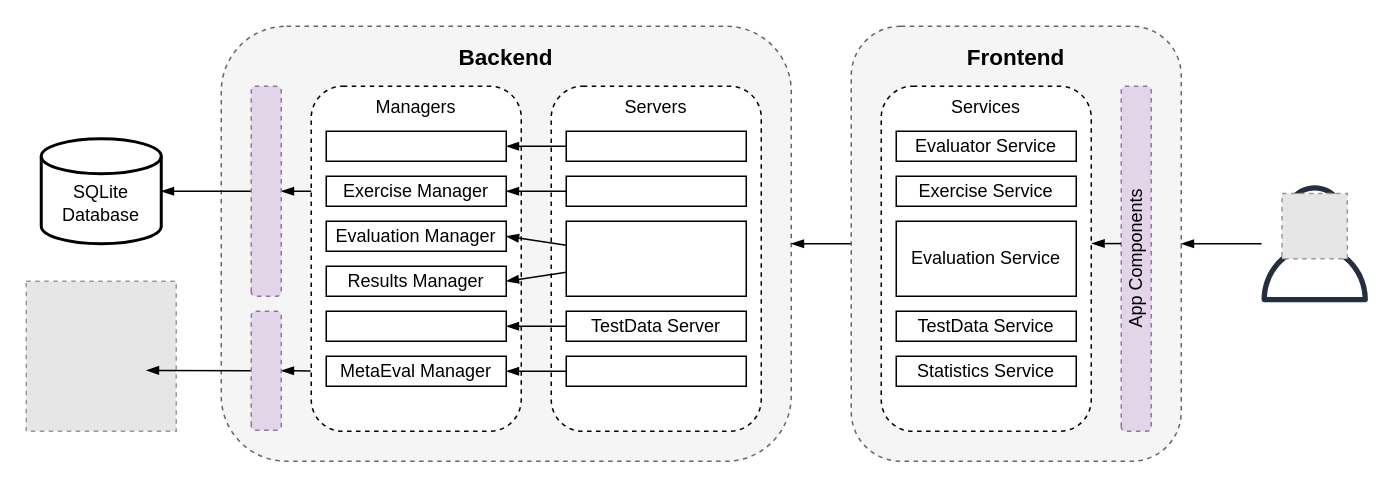
This 1400x488 diagram has some shape labels left out. Grey dashed boxes stand in for pictures. Each missing label, with the centre of its shape:
"Database Connection" goes at point 265,190.
"Evaluation Server" goes at point 655,258.
"Evaluator Manager" goes at point 415,145.
"Evaluator Server" goes at point 655,145.
"Exercise Server" goes at point 655,190.
"Statistics Server" goes at point 655,370.
"TestData Manager" goes at point 415,325.
"XML Adapter" goes at point 265,370.
